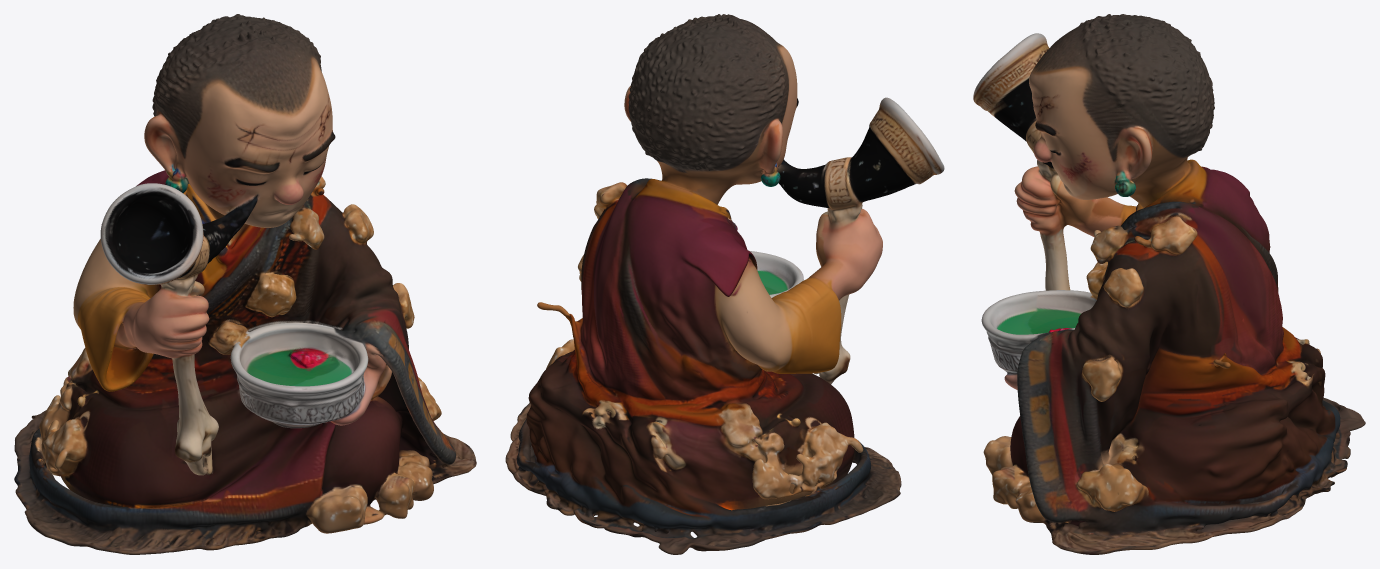
File: hero02.glb
The picture shows the model from 3 angles, left to right: view 1: azimuth 30°, elevation 25°; view 2: azimuth 150°, elevation 25°; view 3: azimuth 270°, elevation 25°; orthographic projection. The views are drawn at different scales.
Visible parts, largest first — view 1: texture_v128_online.001; view 2: texture_v128_online.001; view 3: texture_v128_online.001.
Part boxes in pixels (x1,y1,x2,y2): texture_v128_online.001: [14, 14, 476, 554]; texture_v128_online.001: [505, 14, 944, 554]; texture_v128_online.001: [973, 14, 1365, 554].
Size of the model in its own units: 1.83 by 2 by 1.6.
Materials: 1 (1 with a texture image).
